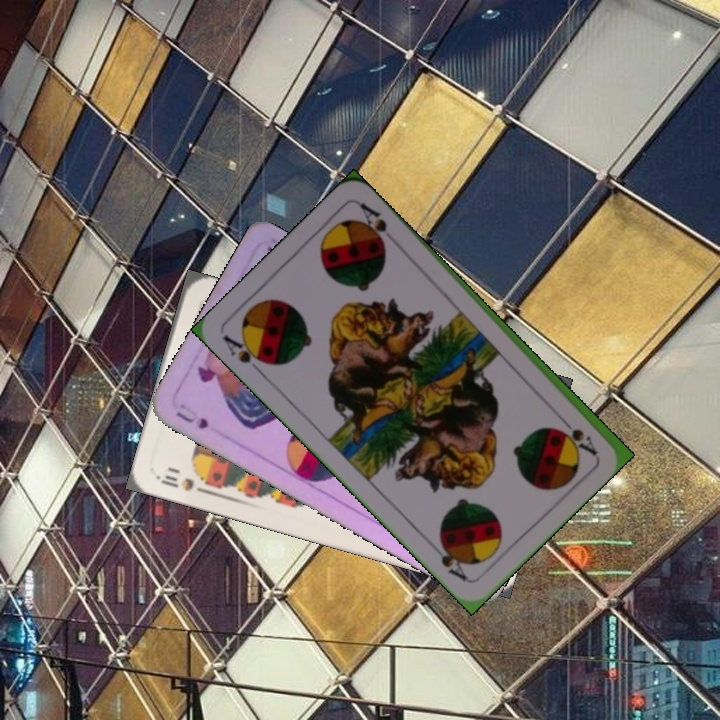S10: (154, 471, 212, 497)
SA: (218, 331, 273, 378), (553, 410, 600, 458)
SU: (172, 399, 212, 432)
